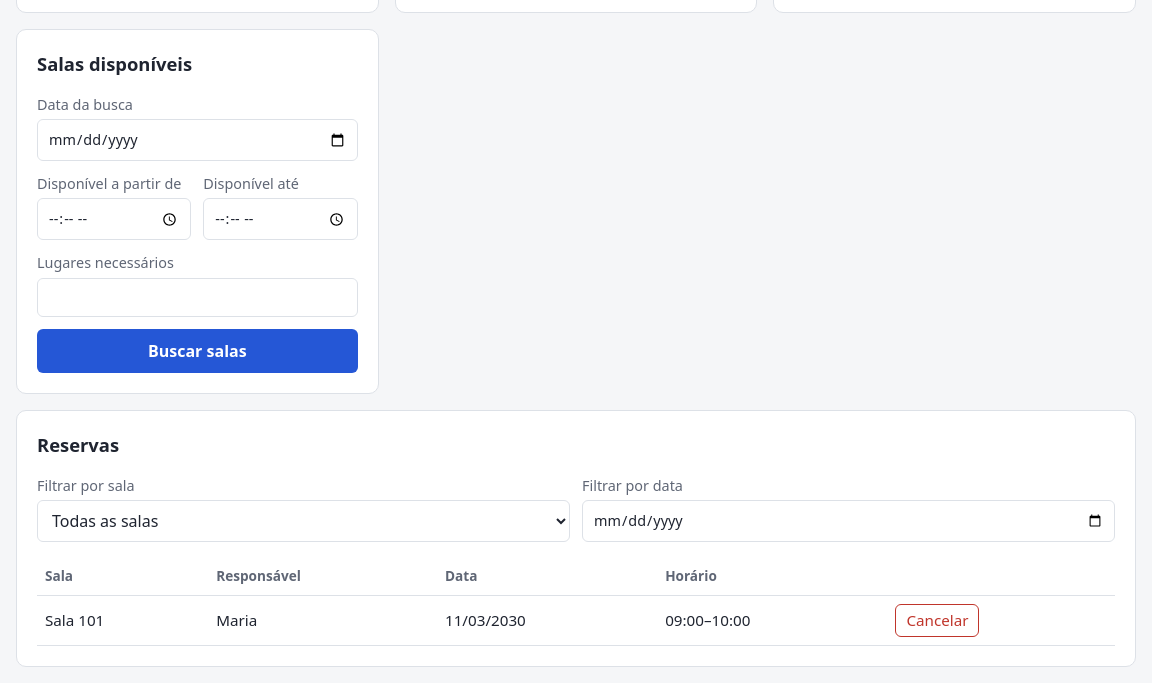
it: App › remove da lista a reserva cancelada
(page scrolled)
Click the button with aria-label "Cancelar reserva de Maria em Sala 101" at {"x": 937, "y": 620}, box [895,604,980,637]
(page scrolled)
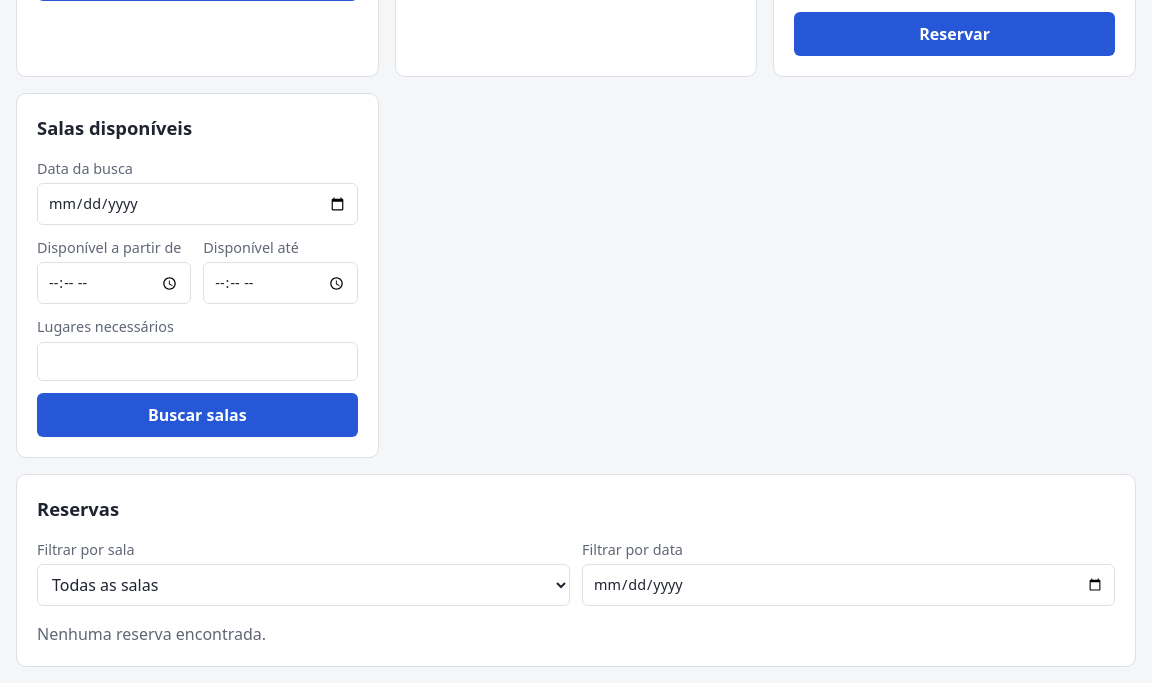
Now the text "Nenhuma reserva encontrada." is shown, box [37,624,266,646]
